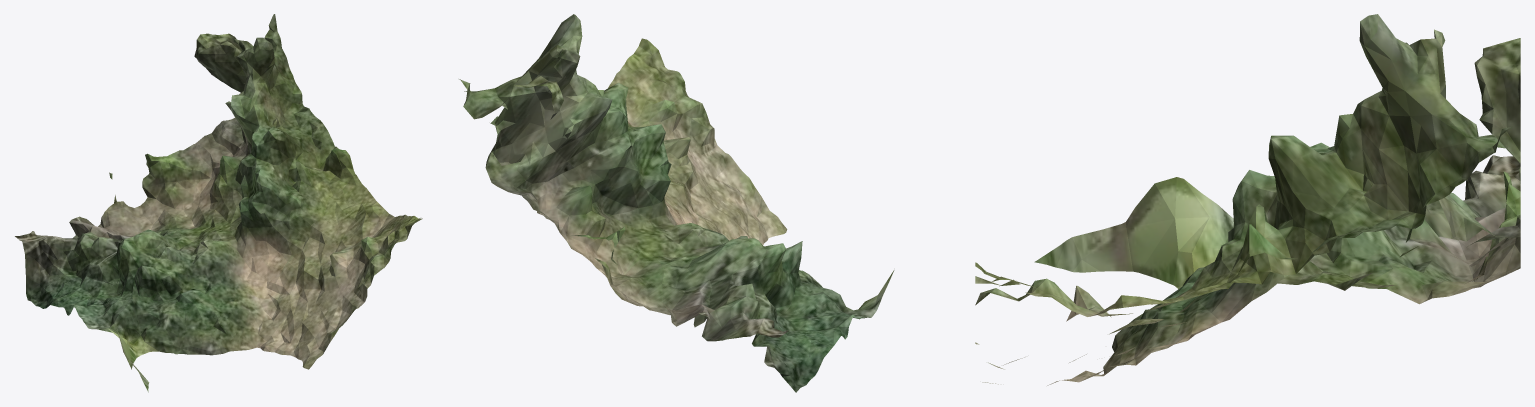
3 views of the same model, side by side, from view 1: azimuth 30°, elevation 25°; view 2: azimuth 150°, elevation 25°; view 3: azimuth 270°, elevation 25° (orthographic). The views are drawn at different scales.
Size of the model in its own units: 11.8 by 10.25 by 11.8.
4 materials, 4 textured.
